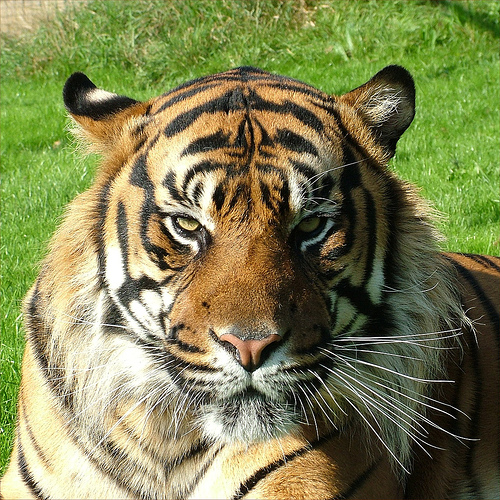Tigre: (28, 41, 487, 489)
